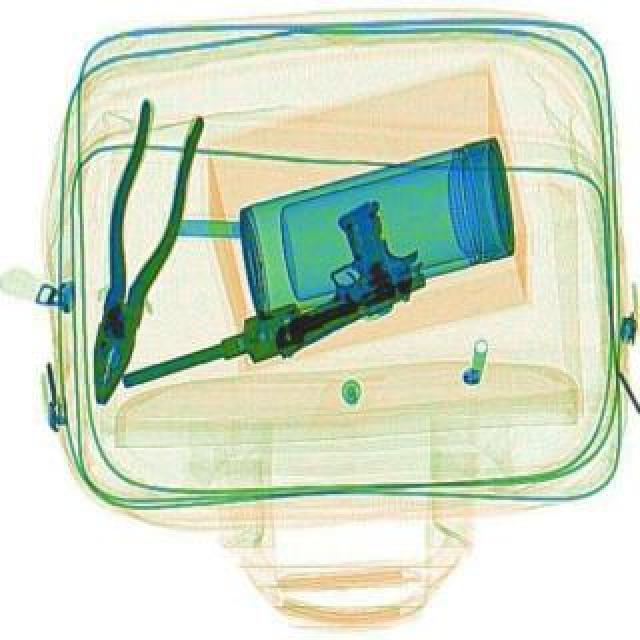gun: (228, 188, 440, 360)
wrench: (64, 98, 208, 412)
